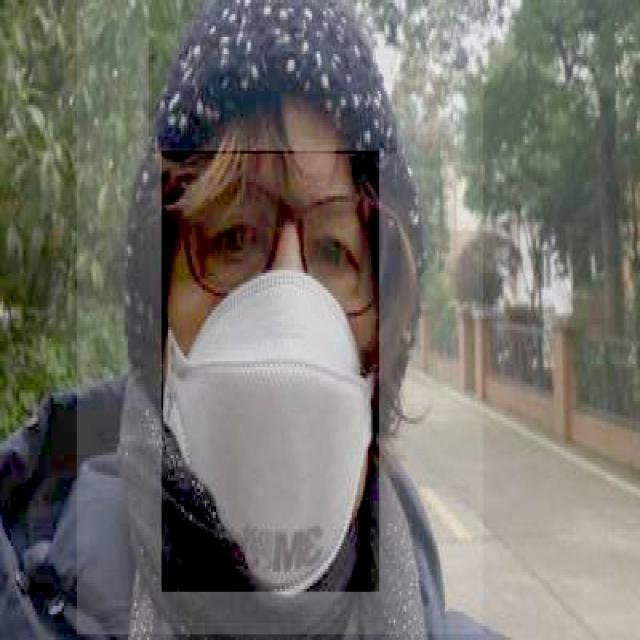face_mask: (162, 151, 380, 594)
glasses: (152, 149, 410, 323)
head_nohelmet: (148, 0, 398, 156)
person: (77, 0, 485, 637)
